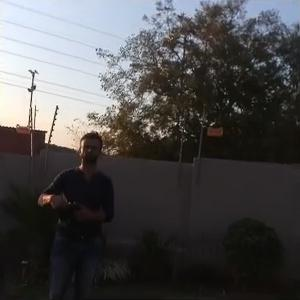follow: (35, 128, 117, 298)
